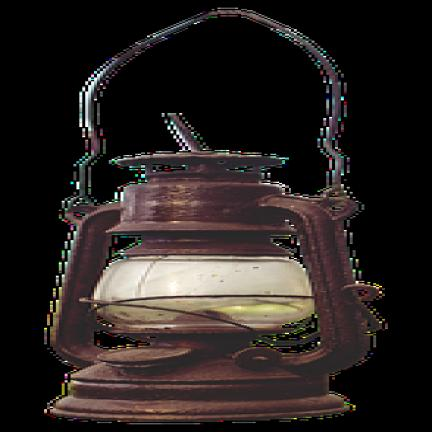karat: (50, 114, 379, 421)
